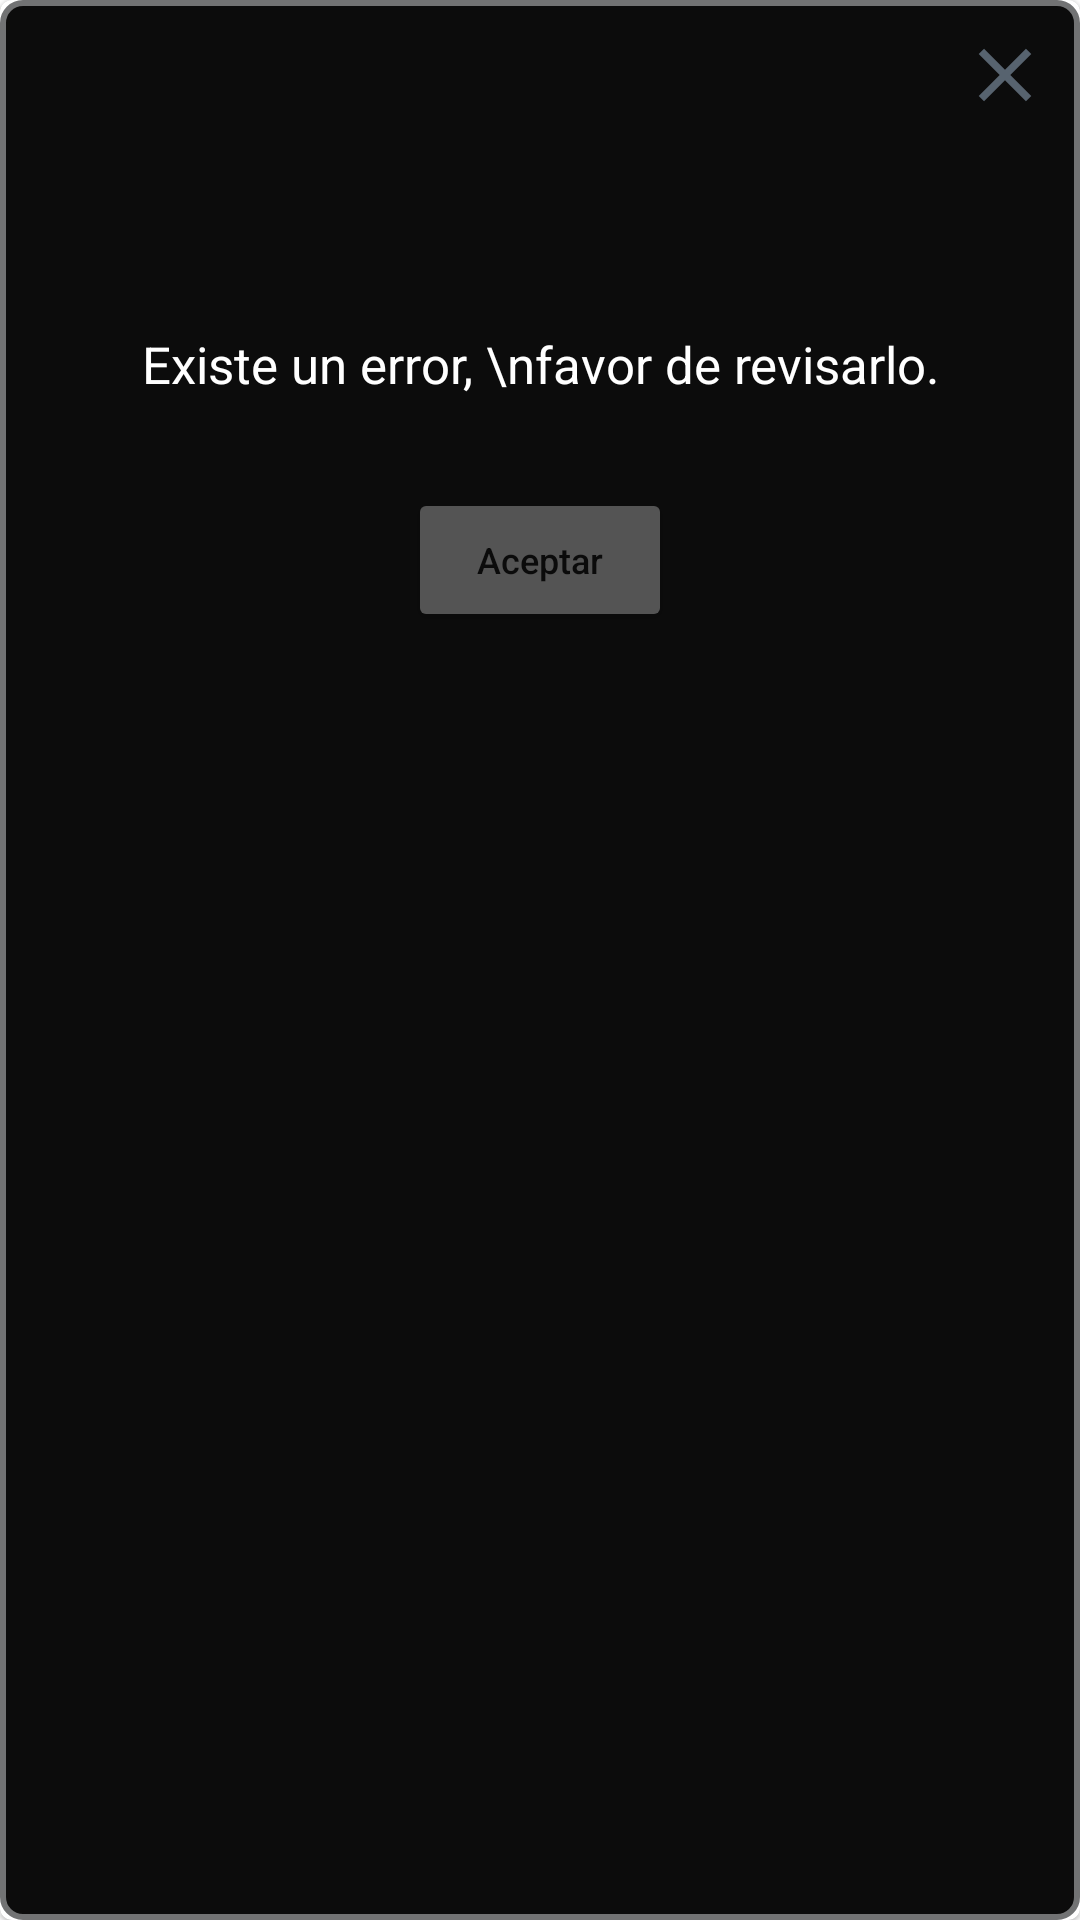

Icons on this 1080 × 1920 Android screen, each with the point to tap as [x,y]:
close: [1005,75]
